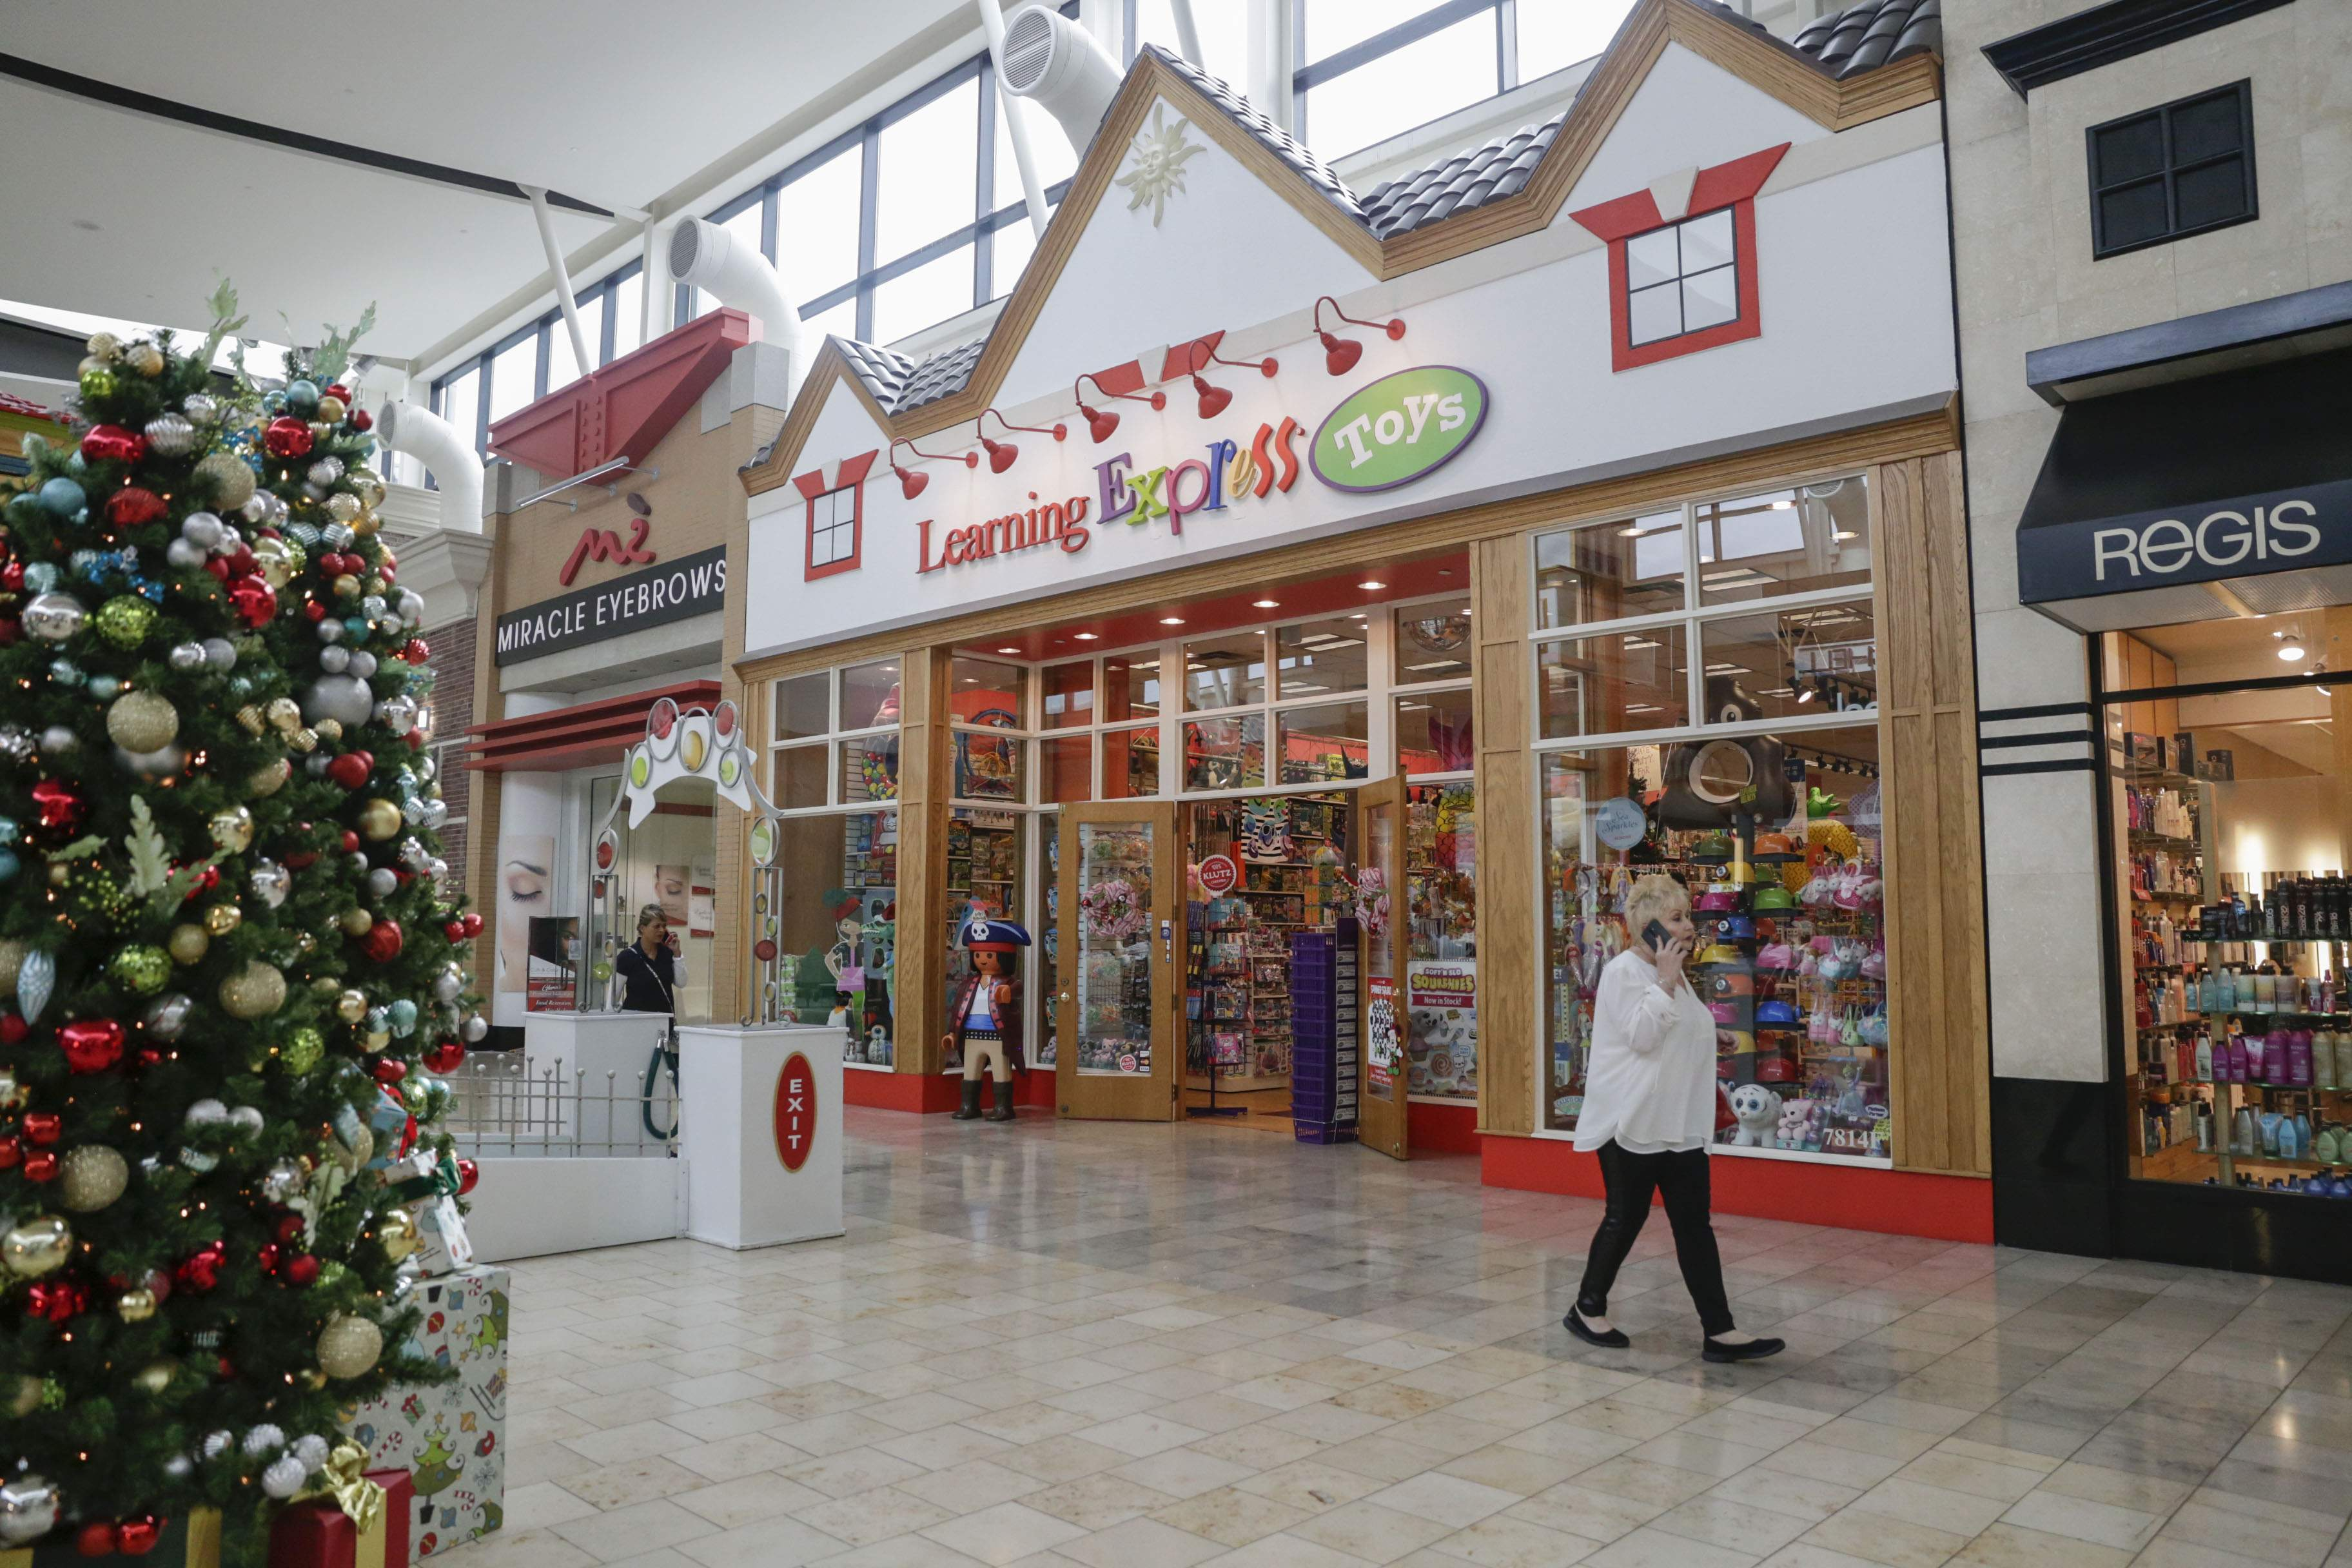Person: (1525, 848, 1802, 1401)
